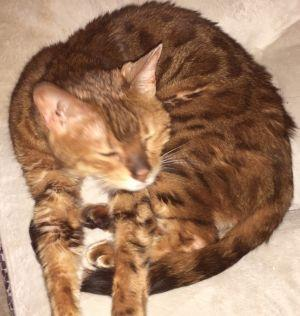bengal: (25, 39, 183, 194)
